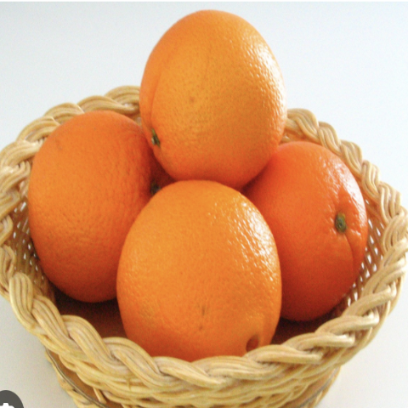orange: (112, 160, 294, 389), (10, 105, 169, 298), (130, 0, 287, 175), (236, 133, 381, 294)
